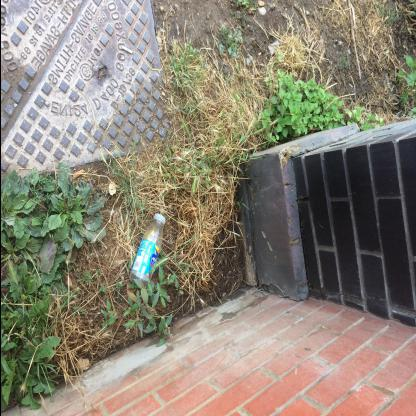plastik: (130, 214, 166, 290)
